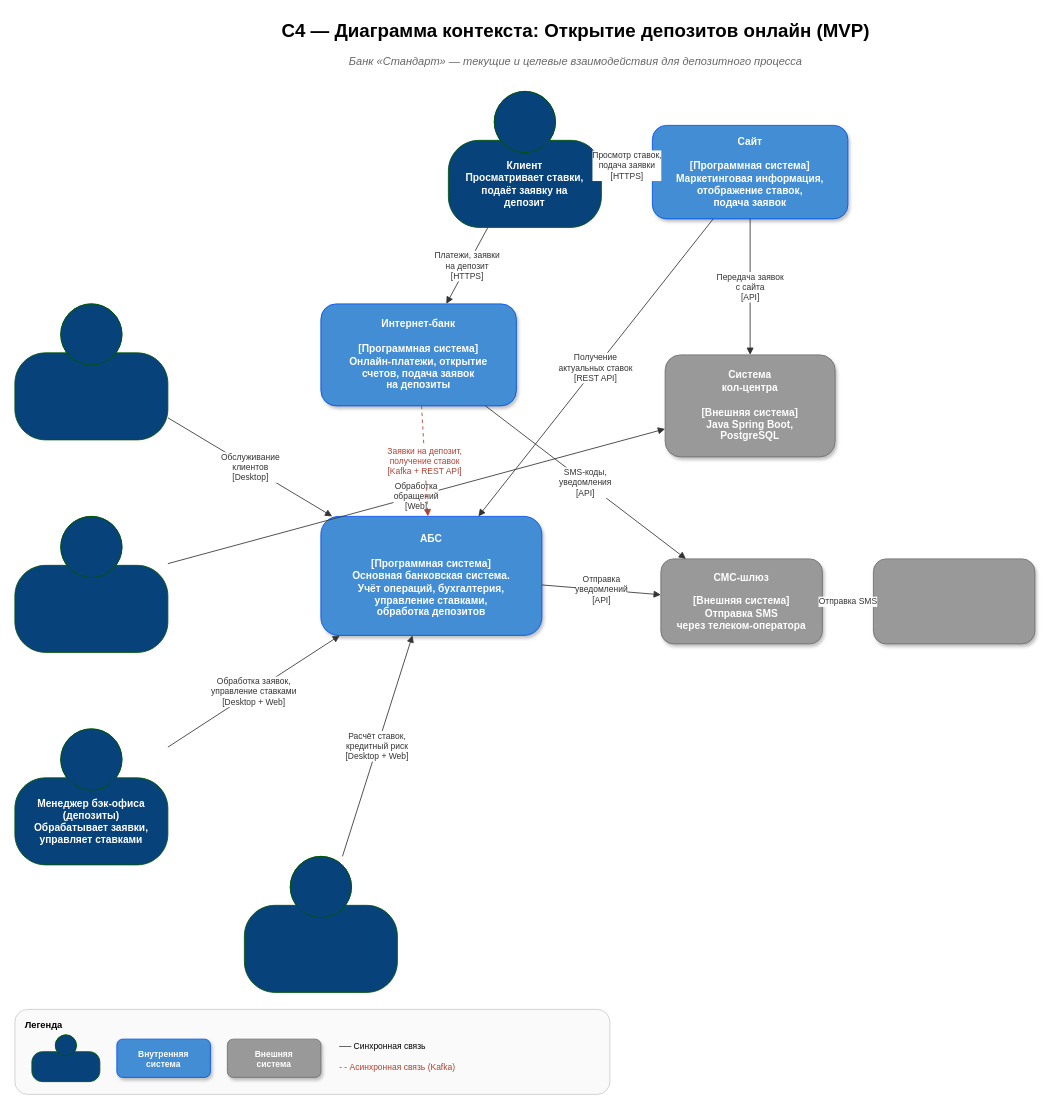
This 1055x1109 diagram has some shape labels left out. The shapes that lost their labels are listed below. From the top down, each one's centre as x and y in pixels, then its label:
At (91,371): "Менеджер фронт-офиса Обслуживает клиентов в отделении".
At (91,584): "Оператор кол-центра Обрабатывает обращения".
At (954,602): "Телеком-оператор [Внешняя система] Доставка SMS клиентам".
At (320,924): "Менеджер бэк-офиса (кредиты) Рассчитывает ставки (кредитный риск)".
At (65,1058): "Персона".
